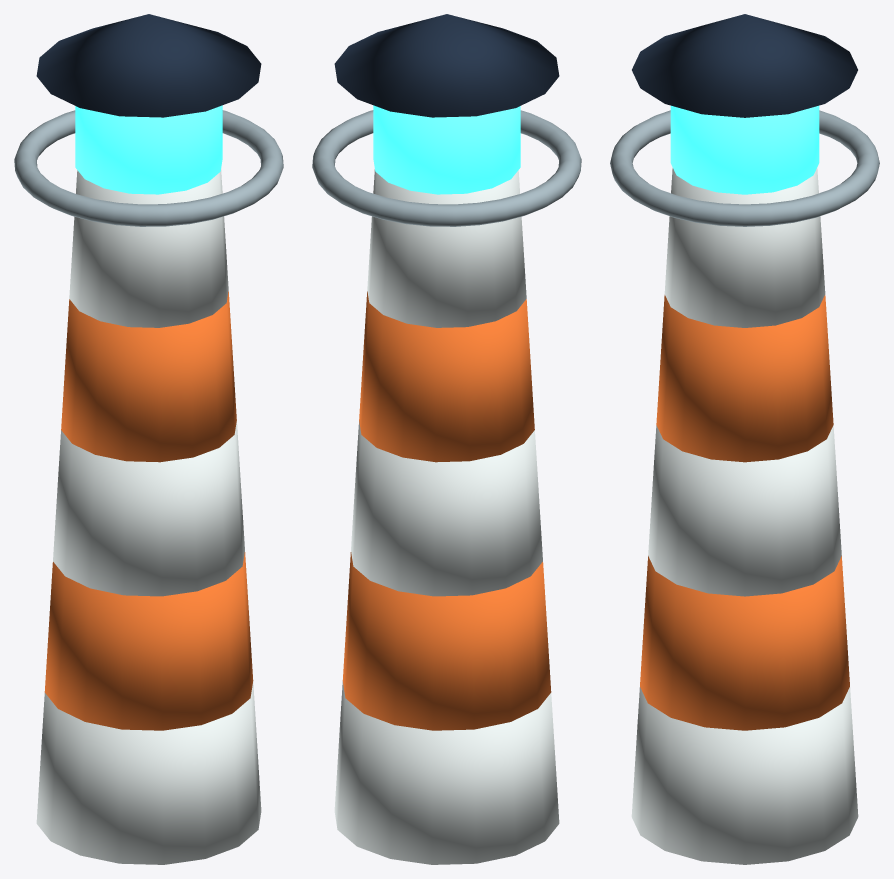
File: Lighthouse.glb
3 renders of one model, left to right at view 1: azimuth 30°, elevation 25°; view 2: azimuth 150°, elevation 25°; view 3: azimuth 270°, elevation 25°, orthographic.
Parts seen in each view (by area): view 1: Painted tower, Painted tower.001, Painted tower.002, Painted tower.003, Painted tower.004, Roof, Lantern, Gallery; view 2: Painted tower, Painted tower.001, Painted tower.002, Painted tower.003, Painted tower.004, Roof, Lantern, Gallery; view 3: Painted tower, Painted tower.001, Painted tower.002, Painted tower.003, Painted tower.004, Roof, Lantern, Gallery.
Boxes of the visible parts, bbox=[...] form: Painted tower: bbox=[36, 681, 261, 864]; Painted tower.001: bbox=[44, 552, 253, 730]; Painted tower.002: bbox=[53, 421, 244, 596]; Painted tower.003: bbox=[61, 291, 236, 462]; Painted tower.004: bbox=[69, 169, 228, 327]; Roof: bbox=[36, 14, 261, 117]; Lantern: bbox=[75, 105, 222, 194]; Gallery: bbox=[14, 110, 283, 226]; Painted tower: bbox=[334, 681, 559, 864]; Painted tower.001: bbox=[342, 552, 551, 730]; Painted tower.002: bbox=[351, 421, 542, 596]; Painted tower.003: bbox=[359, 291, 534, 462]; Painted tower.004: bbox=[367, 169, 526, 327]; Roof: bbox=[334, 14, 559, 117]; Lantern: bbox=[373, 105, 520, 194]; Gallery: bbox=[312, 110, 581, 226]; Painted tower: bbox=[631, 687, 858, 864]; Painted tower.001: bbox=[640, 556, 849, 730]; Painted tower.002: bbox=[648, 425, 841, 596]; Painted tower.003: bbox=[656, 295, 833, 462]; Painted tower.004: bbox=[664, 168, 825, 327]; Roof: bbox=[632, 14, 857, 117]; Lantern: bbox=[670, 105, 819, 194]; Gallery: bbox=[610, 110, 879, 226].
Bounding box in the file's own units: 1.31 × 4.3 × 1.31.
